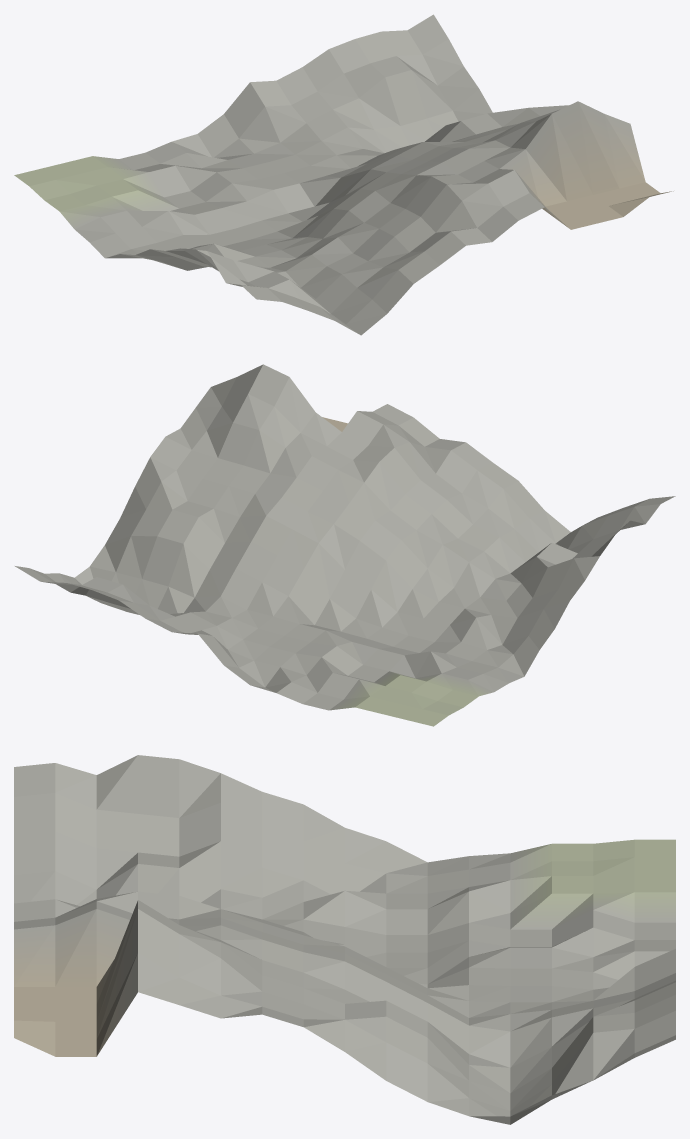
The picture shows the model from 3 angles, top to bottom: view 1: azimuth 30°, elevation 25°; view 2: azimuth 150°, elevation 25°; view 3: azimuth 270°, elevation 25°; orthographic projection. The views are drawn at different scales.
Size of the model in its own units: 32 by 10.81 by 32.
